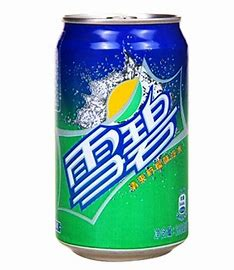Sprite: (53, 12, 192, 264)
